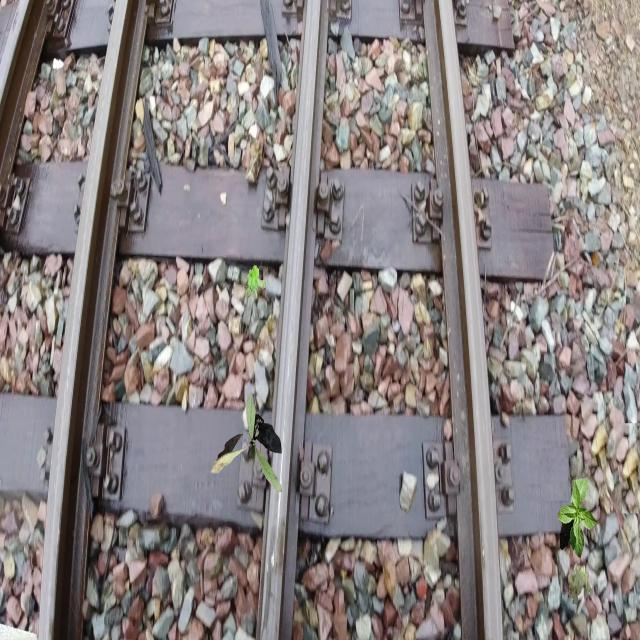Plant: (210, 393, 282, 492), (558, 478, 600, 558), (568, 562, 594, 604), (246, 265, 266, 298)
